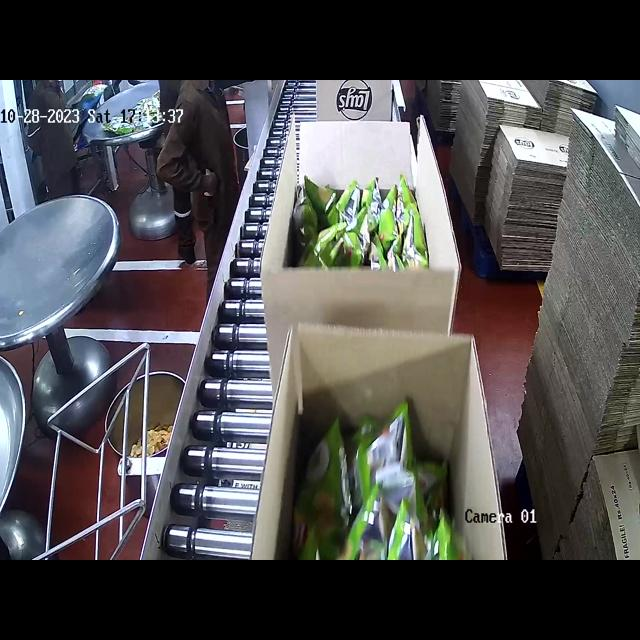yogurt: (305, 421, 461, 560), (292, 173, 429, 270)
